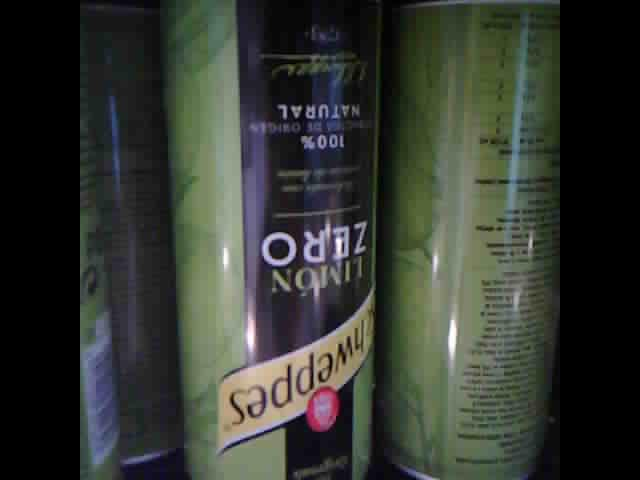schweppes: (167, 3, 377, 478), (387, 1, 561, 479), (80, 4, 167, 479)
